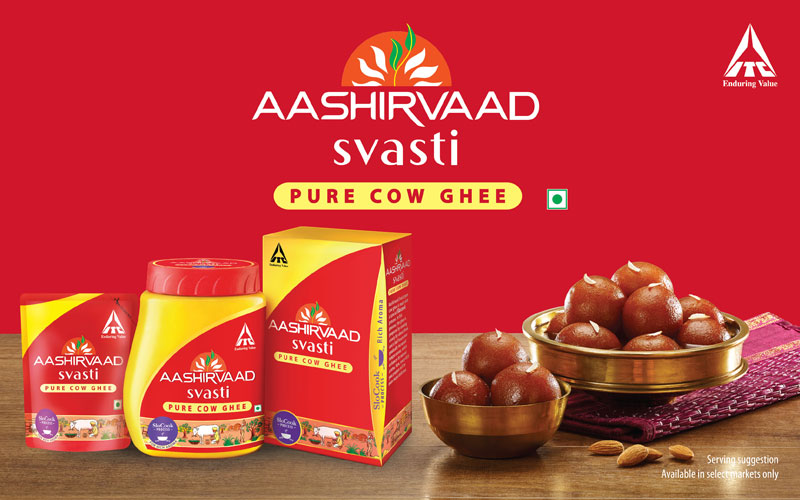VEG: (546, 189, 568, 210)
